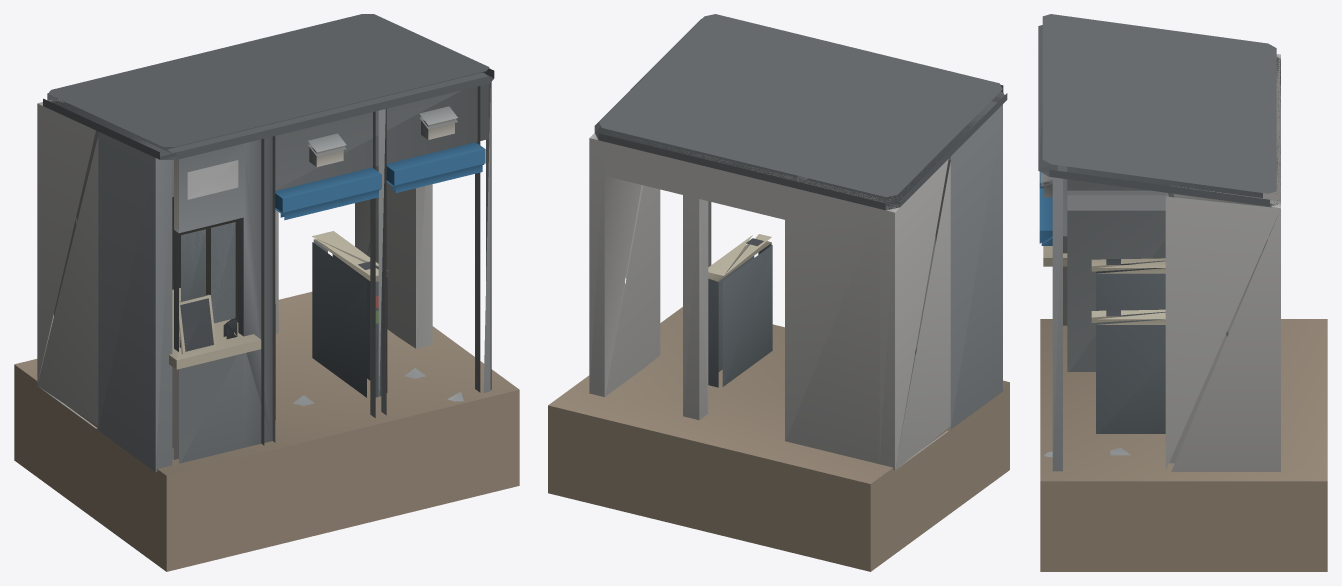
File: turnstile.lod.glb
The picture shows the model from 3 angles, left to right: view 1: azimuth 30°, elevation 25°; view 2: azimuth 150°, elevation 25°; view 3: azimuth 270°, elevation 25°; orthographic projection. The views are drawn at different scales.
Parts seen in each view (by area): view 1: turnstile; view 2: turnstile; view 3: turnstile.
Part boxes in pixels (<box>): turnstile: <box>14,14,519,571</box>; turnstile: <box>548,14,1009,571</box>; turnstile: <box>1038,14,1327,571</box>.
Size of the model in its own units: 3.98 by 4.52 by 2.98.
